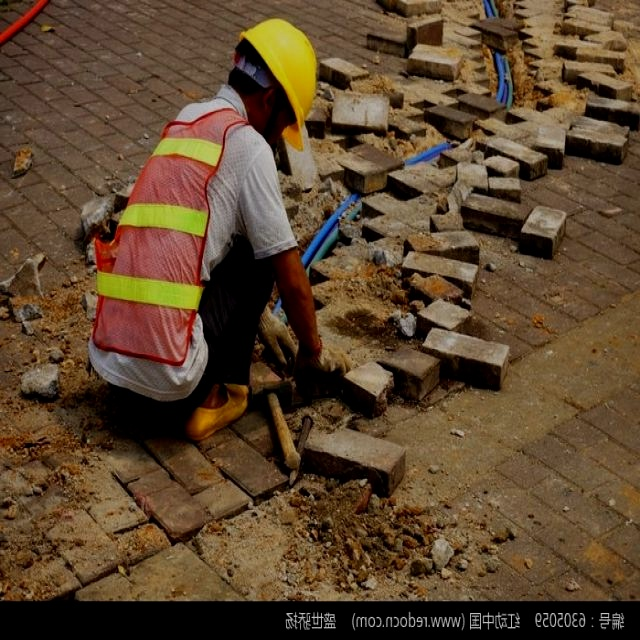Con_Casco: (238, 19, 319, 151)
Con_Chaleco: (88, 109, 264, 383)
